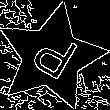P_SW: (22, 26, 80, 88)
